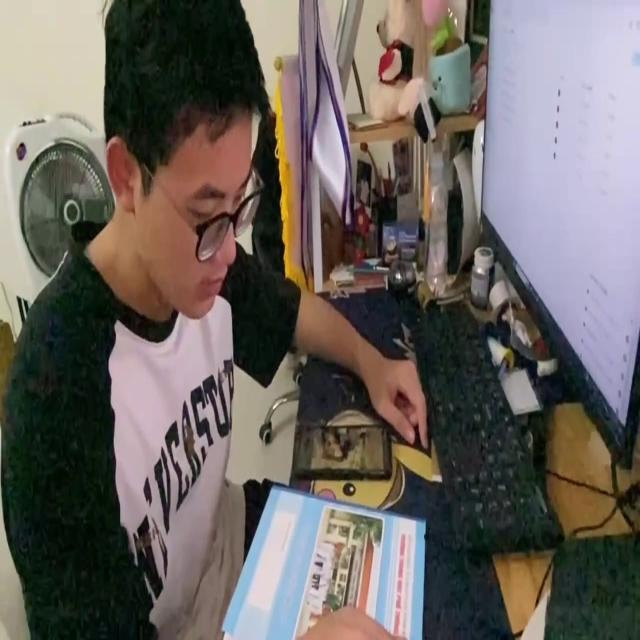book: (223, 484, 427, 640)
laptop: (478, 0, 640, 475)
phone: (292, 415, 391, 483)
student: (3, 0, 429, 640)
